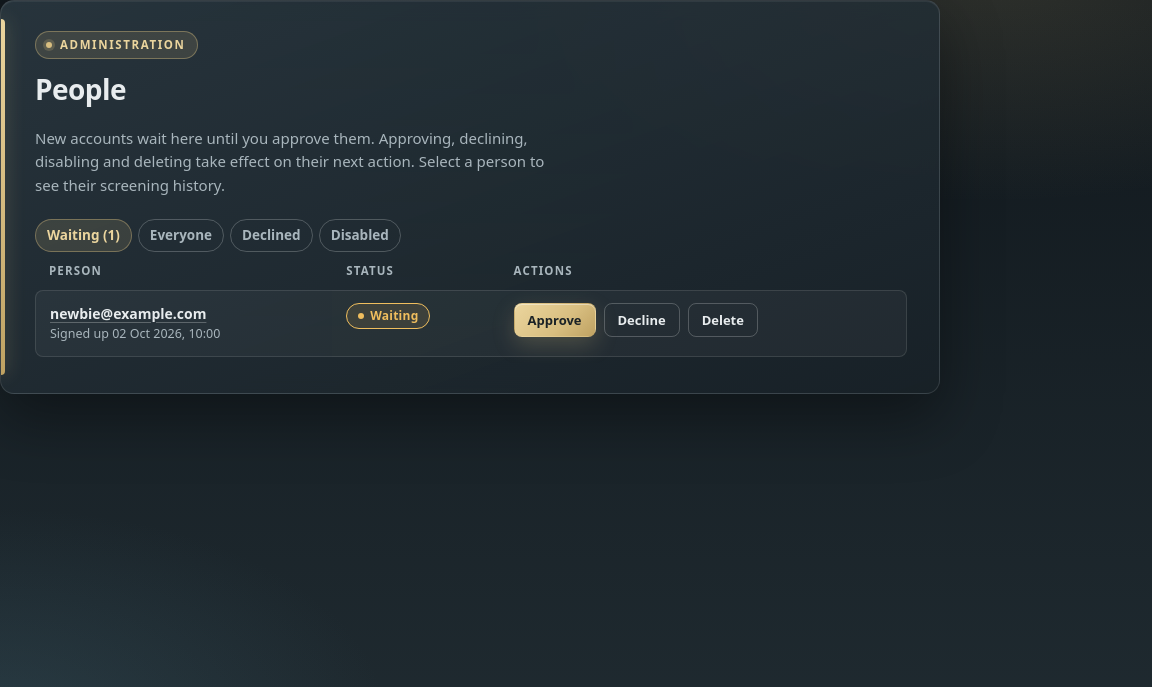
Test: People › shows the server's reason when deleting is not set up, and keeps the person listed
Expected: the button "newbie@example.com" is shown, [50, 303, 206, 324]
Click the button "Everyone": {"x": 181, "y": 235} [138, 219, 224, 252]
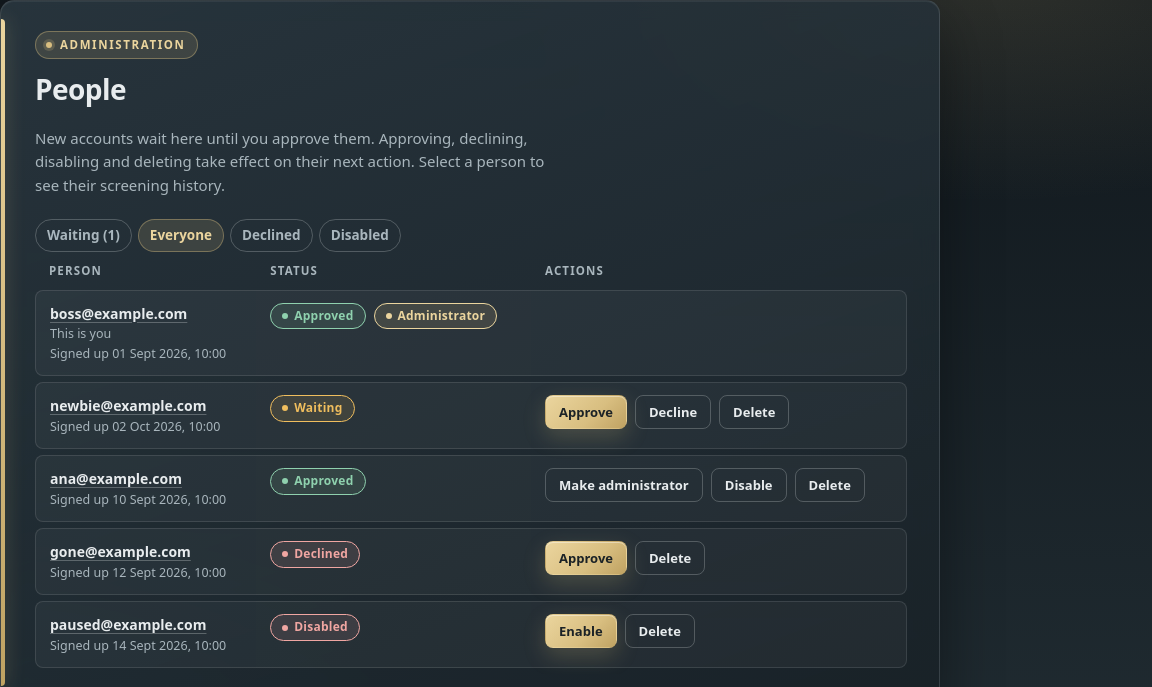
Click the button "Delete" in the row of "10 Sept 2026, 10:00": {"x": 830, "y": 485} [795, 468, 865, 502]
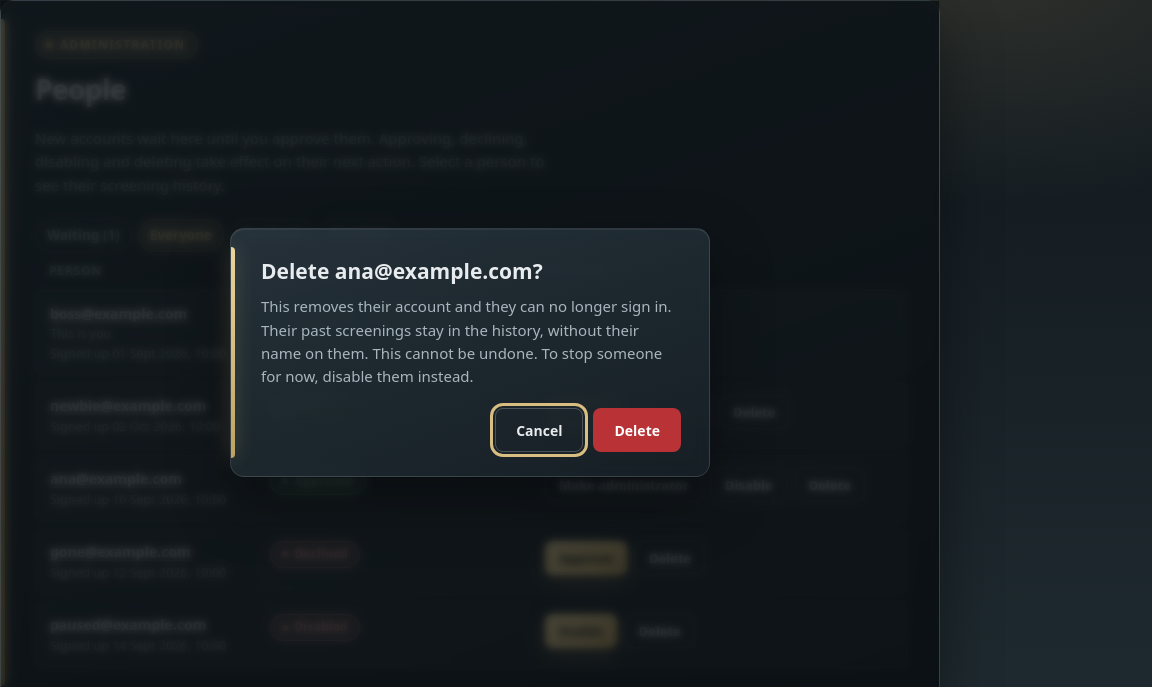
Click the button "Delete": {"x": 637, "y": 430} [594, 408, 681, 452]
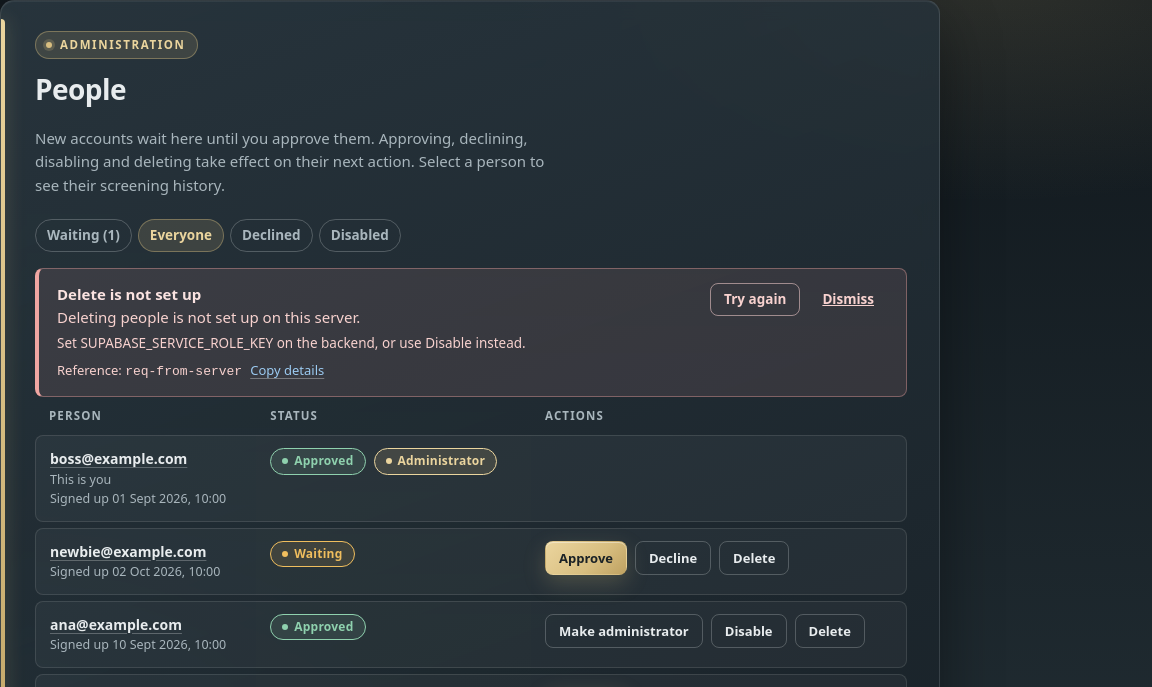
Expected: the button "ana@example.com" is shown, [50, 614, 182, 635]
Expected: the text "Delete is not set up" is shown, [57, 284, 201, 304]
Expected: the text "or use Disable instead" is shown, [57, 334, 526, 352]
